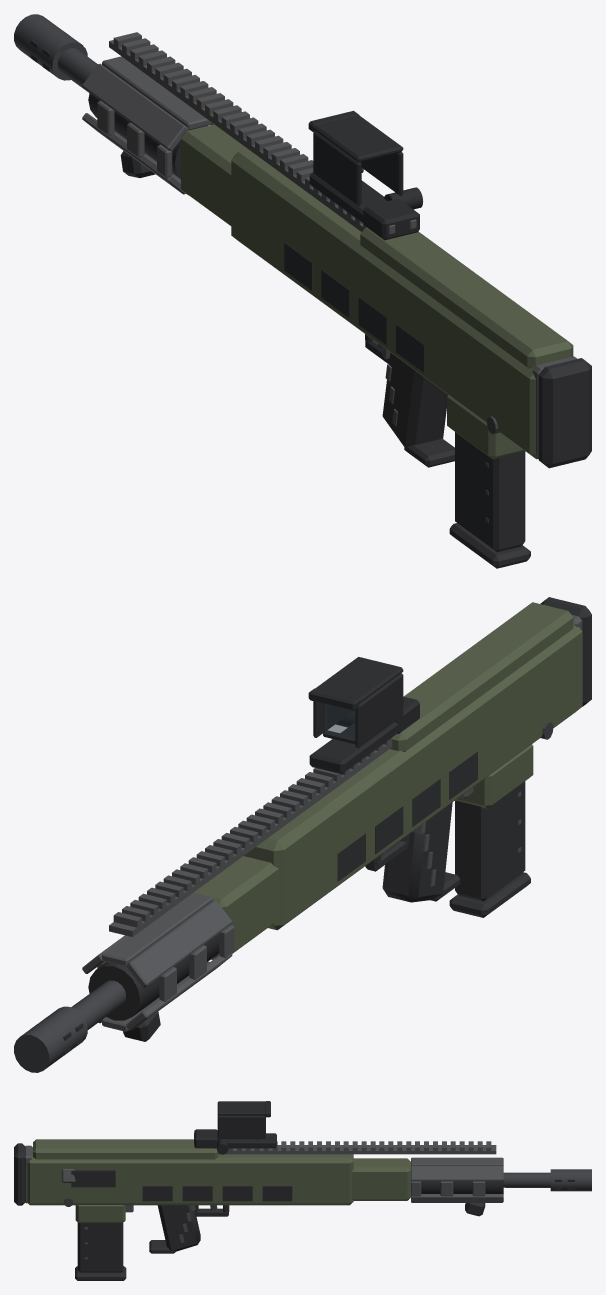
Rendered from burst.glb.
3 views of the same model, one above another, from view 1: azimuth 30°, elevation 25°; view 2: azimuth 150°, elevation 25°; view 3: azimuth 270°, elevation 25° (orthographic). The views are drawn at different scales.
Visible parts, largest first — view 1: BURST_OD, BURST_Polymer, BURST_Alu, BURST_Optic, BURST_Steel; view 2: BURST_OD, BURST_Polymer, BURST_Alu, BURST_Optic, BURST_Steel, BURST_Glass; view 3: BURST_OD, BURST_Polymer, BURST_Alu, BURST_Optic, BURST_Steel.
Part boxes in pixels (x1,y1,x2,y2): BURST_OD: (181,124,573,459); BURST_Polymer: (30,33,591,568); BURST_Alu: (82,32,577,523); BURST_Optic: (308,110,423,240); BURST_Steel: (14,14,499,434); BURST_OD: (193,602,582,959); BURST_Polymer: (63,597,591,1055); BURST_Alu: (82,615,582,1031); BURST_Optic: (308,657,419,774); BURST_Steel: (14,721,553,1072); BURST_Glass: (325,704,355,738); BURST_OD: (27,1139,410,1222); BURST_Polymer: (14,1143,574,1280); BURST_Alu: (24,1133,503,1259); BURST_Optic: (194,1101,276,1154); BURST_Steel: (63,1169,591,1210).
Size of the model in its own units: 0.0661 by 0.2632 by 0.8105.
